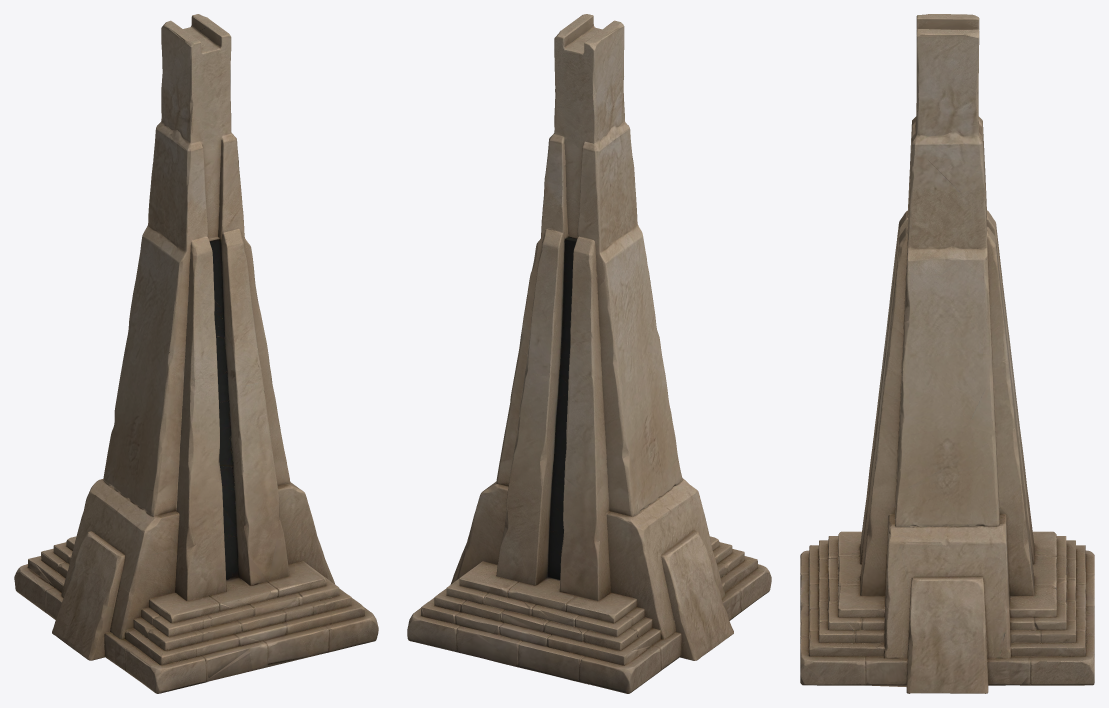
Rendered from kybertemple.glb.
3 renders of one model, left to right at view 1: azimuth 30°, elevation 25°; view 2: azimuth 150°, elevation 25°; view 3: azimuth 270°, elevation 25°, orthographic. The views are drawn at different scales.
Visible parts, largest first — view 1: kybertemple-centred; view 2: kybertemple-centred; view 3: kybertemple-centred.
Boxes of the visible parts, bbox=[...] form: kybertemple-centred: bbox=[14, 14, 378, 693]; kybertemple-centred: bbox=[407, 14, 771, 693]; kybertemple-centred: bbox=[800, 14, 1094, 693].
Bounding box in the file's own units: 40.47 × 90 × 39.59.
Materials: 1 (1 with a texture image).
